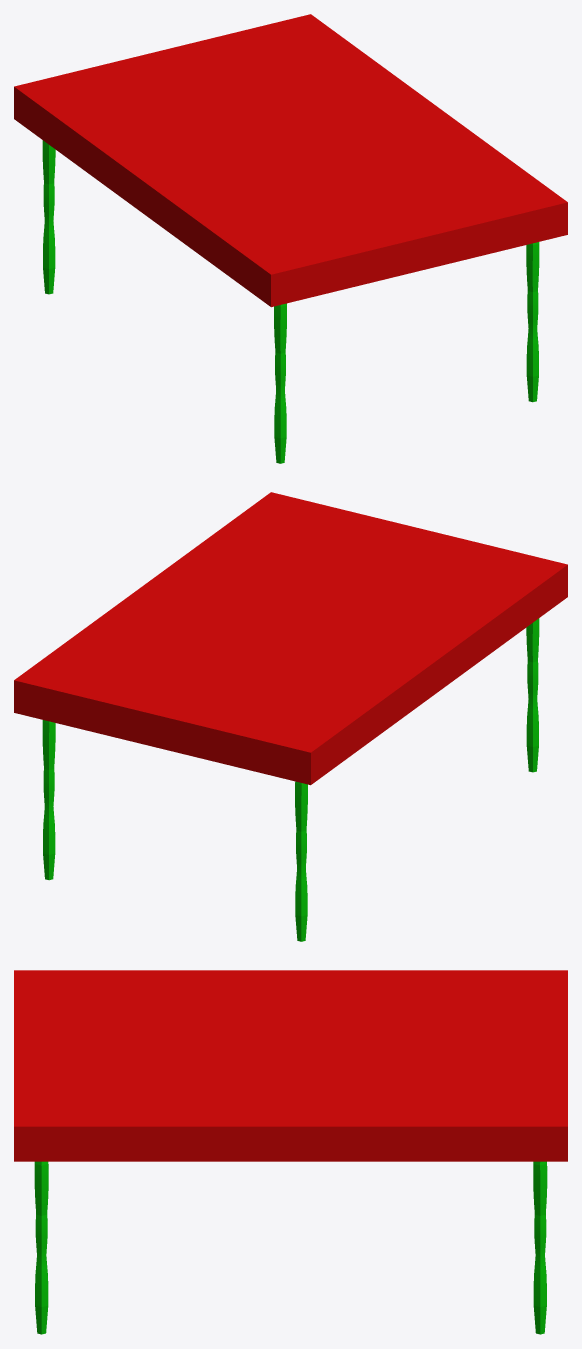
File: Surfacing_Table.fbx
3 renders of one model, top to bottom at view 1: azimuth 30°, elevation 25°; view 2: azimuth 150°, elevation 25°; view 3: azimuth 270°, elevation 25°, orthographic. The views are drawn at different scales.
Parts seen in each view (by area): view 1: TableTop, pCylinder1, pCylinder3, pCylinder4; view 2: TableTop, pCylinder2, pCylinder4, pCylinder3; view 3: TableTop, pCylinder1, pCylinder2.
Part boxes in pixels (x1,y1,x2,y2): TableTop: (14, 14, 567, 307); pCylinder1: (526, 242, 539, 402); pCylinder3: (274, 303, 286, 463); pCylinder4: (42, 140, 55, 294); TableTop: (14, 492, 567, 785); pCylinder2: (42, 720, 55, 880); pCylinder4: (295, 781, 307, 941); pCylinder3: (526, 618, 539, 772); TableTop: (14, 970, 567, 1161); pCylinder1: (34, 1161, 48, 1334); pCylinder2: (533, 1161, 547, 1334).
Bounding box in the file's own units: 4 × 2.6 × 6.
